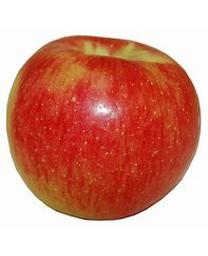apple: (6, 36, 201, 221)
